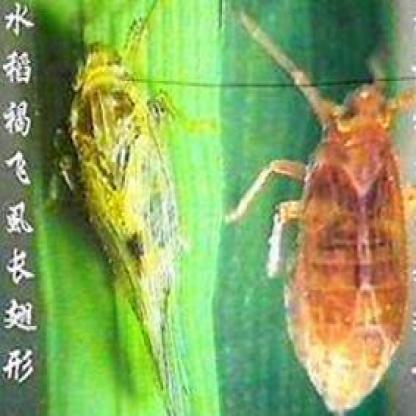brown-planthopper: (62, 43, 192, 416), (284, 57, 412, 416)
